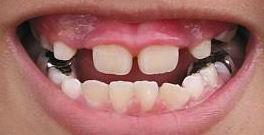Caries: (209, 48, 235, 71), (46, 60, 75, 77), (191, 61, 215, 77)
Hypodontia: (73, 48, 101, 69)
